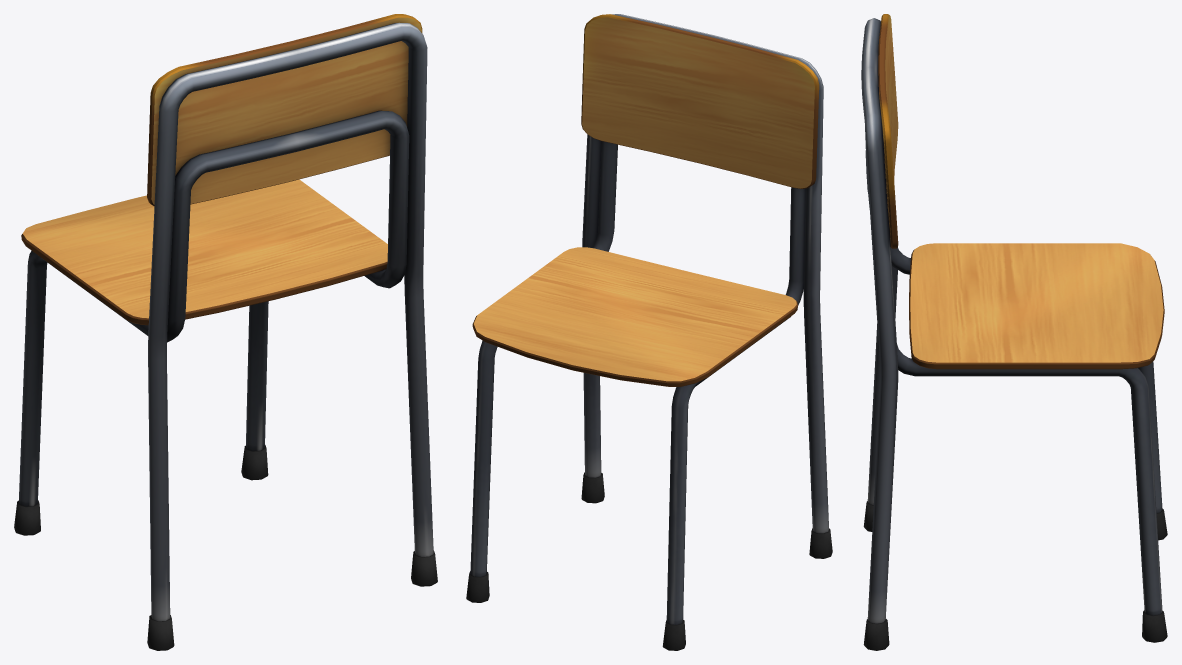
The model's file is japanese-school-chair.glb.
3 renders of one model, left to right at view 1: azimuth 30°, elevation 25°; view 2: azimuth 150°, elevation 25°; view 3: azimuth 270°, elevation 25°, orthographic. The views are drawn at different scales.
Parts seen in each view (by area): view 1: japanschoolchair_m_japanschooldesk_0; view 2: japanschoolchair_m_japanschooldesk_0; view 3: japanschoolchair_m_japanschooldesk_0.
Part boxes in pixels (box(x1,y1,x2,y2)): japanschoolchair_m_japanschooldesk_0: box(14, 14, 437, 650); japanschoolchair_m_japanschooldesk_0: box(466, 14, 832, 650); japanschoolchair_m_japanschooldesk_0: box(861, 14, 1167, 650).
Size of the model in its own units: 0.6555 by 1.24 by 0.658.
Materials: 1 (1 with a texture image).
